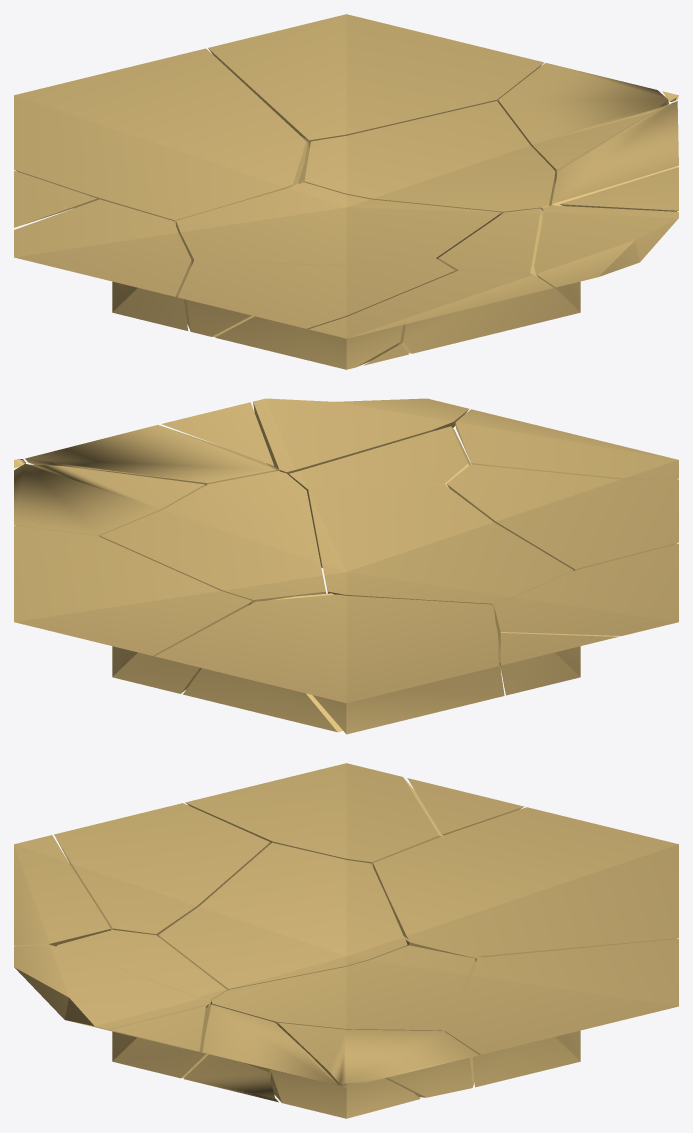
Rendered from PlateSmallBroke.fbx.
3 renders of one model, top to bottom at view 1: azimuth 30°, elevation 25°; view 2: azimuth 150°, elevation 25°; view 3: azimuth 270°, elevation 25°, orthographic.
Visible parts, largest first — view 1: obj_plateSmall_cell.002, obj_plateSmall_cell.012, obj_plateSmall_cell.014, obj_plateSmall_cell.001, obj_plateSmall_cell.004, obj_plateSmall_cell.009, obj_plateSmall_cell.013, obj_plateSmall_cell.010, obj_plateSmall_cell.011, obj_plateSmall_cell.015, obj_plateSmall_cell, obj_plateSmall_cell.005 (+1 smaller); view 2: obj_plateSmall_cell.002, obj_plateSmall_cell.014, obj_plateSmall_cell.012, obj_plateSmall_cell.001, obj_plateSmall_cell.004, obj_plateSmall_cell.009, obj_plateSmall_cell.011, obj_plateSmall_cell.013, obj_plateSmall_cell.015, obj_plateSmall_cell, obj_plateSmall_cell.010, obj_plateSmall_cell.017 (+2 smaller); view 3: obj_plateSmall_cell.002, obj_plateSmall_cell.014, obj_plateSmall_cell.012, obj_plateSmall_cell.004, obj_plateSmall_cell.001, obj_plateSmall_cell.009, obj_plateSmall_cell.013, obj_plateSmall_cell.011, obj_plateSmall_cell.010, obj_plateSmall_cell.015, obj_plateSmall_cell, obj_plateSmall_cell.003 (+2 smaller).
Boxes of the visible parts, box(x1,y1,x2,y2) form: obj_plateSmall_cell.002: box(14, 48, 306, 225); obj_plateSmall_cell.012: box(208, 14, 543, 147); obj_plateSmall_cell.014: box(176, 182, 501, 336); obj_plateSmall_cell.001: box(304, 101, 555, 215); obj_plateSmall_cell.004: box(177, 258, 455, 369); obj_plateSmall_cell.009: box(14, 199, 191, 330); obj_plateSmall_cell.013: box(498, 63, 668, 183); obj_plateSmall_cell.010: box(397, 208, 580, 353); obj_plateSmall_cell.011: box(534, 205, 678, 287); obj_plateSmall_cell.015: box(309, 271, 553, 338); obj_plateSmall_cell: box(551, 101, 678, 205); obj_plateSmall_cell.005: box(559, 167, 678, 211); obj_plateSmall_cell.002: box(155, 594, 504, 734); obj_plateSmall_cell.014: box(309, 484, 573, 665); obj_plateSmall_cell.012: box(14, 525, 252, 693); obj_plateSmall_cell.001: box(100, 471, 326, 603); obj_plateSmall_cell.004: box(447, 464, 678, 570); obj_plateSmall_cell.009: box(494, 543, 678, 695); obj_plateSmall_cell.011: box(253, 398, 469, 474); obj_plateSmall_cell.013: box(14, 463, 204, 536); obj_plateSmall_cell.015: box(455, 409, 678, 479); obj_plateSmall_cell: box(25, 425, 276, 485); obj_plateSmall_cell.010: box(288, 426, 470, 567); obj_plateSmall_cell.017: box(183, 593, 501, 732); obj_plateSmall_cell.002: box(373, 807, 678, 957); obj_plateSmall_cell.014: box(158, 842, 407, 990); obj_plateSmall_cell.012: box(444, 939, 678, 1087); obj_plateSmall_cell.004: box(54, 803, 270, 936); obj_plateSmall_cell.001: box(210, 945, 475, 1097); obj_plateSmall_cell.009: box(185, 763, 443, 866); obj_plateSmall_cell.013: box(270, 1022, 479, 1118); obj_plateSmall_cell.011: box(14, 945, 209, 1035); obj_plateSmall_cell.010: box(56, 930, 227, 1078); obj_plateSmall_cell.015: box(14, 835, 110, 946); obj_plateSmall_cell: box(197, 1004, 338, 1085); obj_plateSmall_cell.003: box(407, 778, 524, 835).
Bounding box in the file's own units: 67.97 × 7.83 × 58.86.
